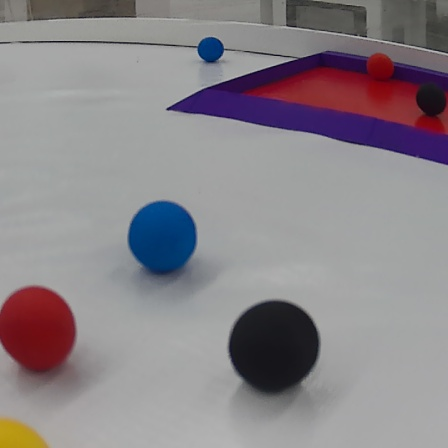black: (227, 300, 323, 397), (413, 77, 448, 116)
blue: (126, 198, 203, 279), (194, 32, 230, 63)
red: (2, 282, 79, 378), (357, 48, 397, 86)
red_aim: (164, 46, 448, 170)
